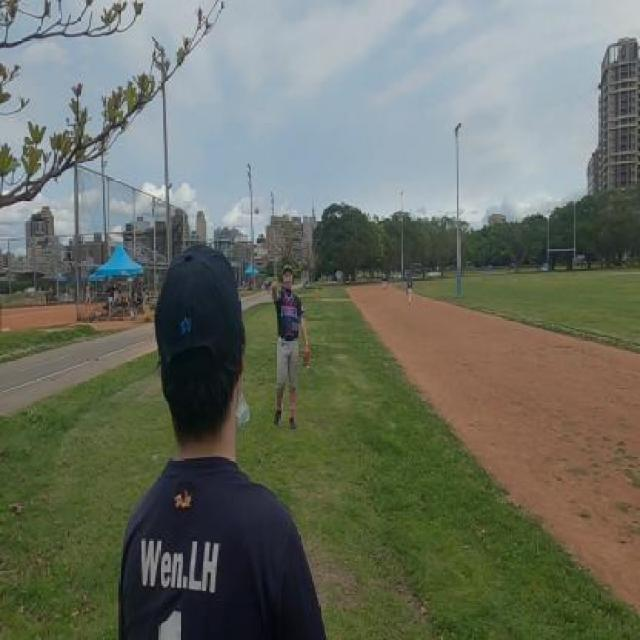baseball: (255, 206, 259, 214)
